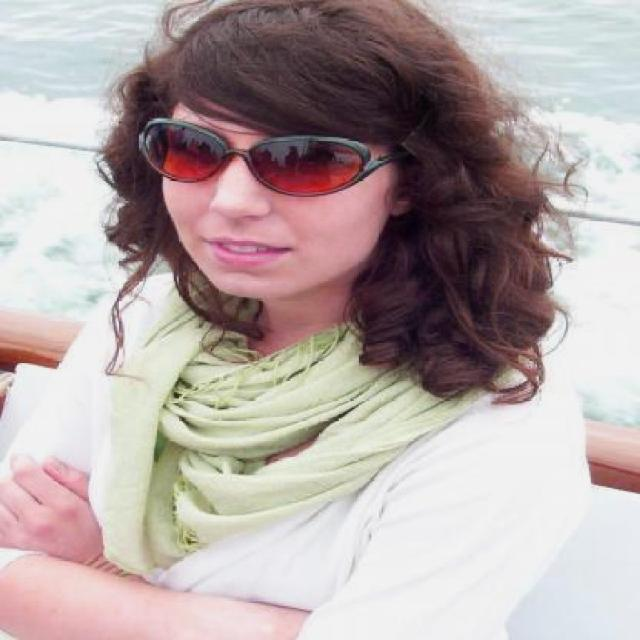face_nomask: (154, 126, 372, 280)
glasses: (128, 113, 407, 189)
hand_noglove: (0, 449, 108, 563)
head_nohelmet: (153, 4, 445, 144)
person: (1, 7, 585, 640)
